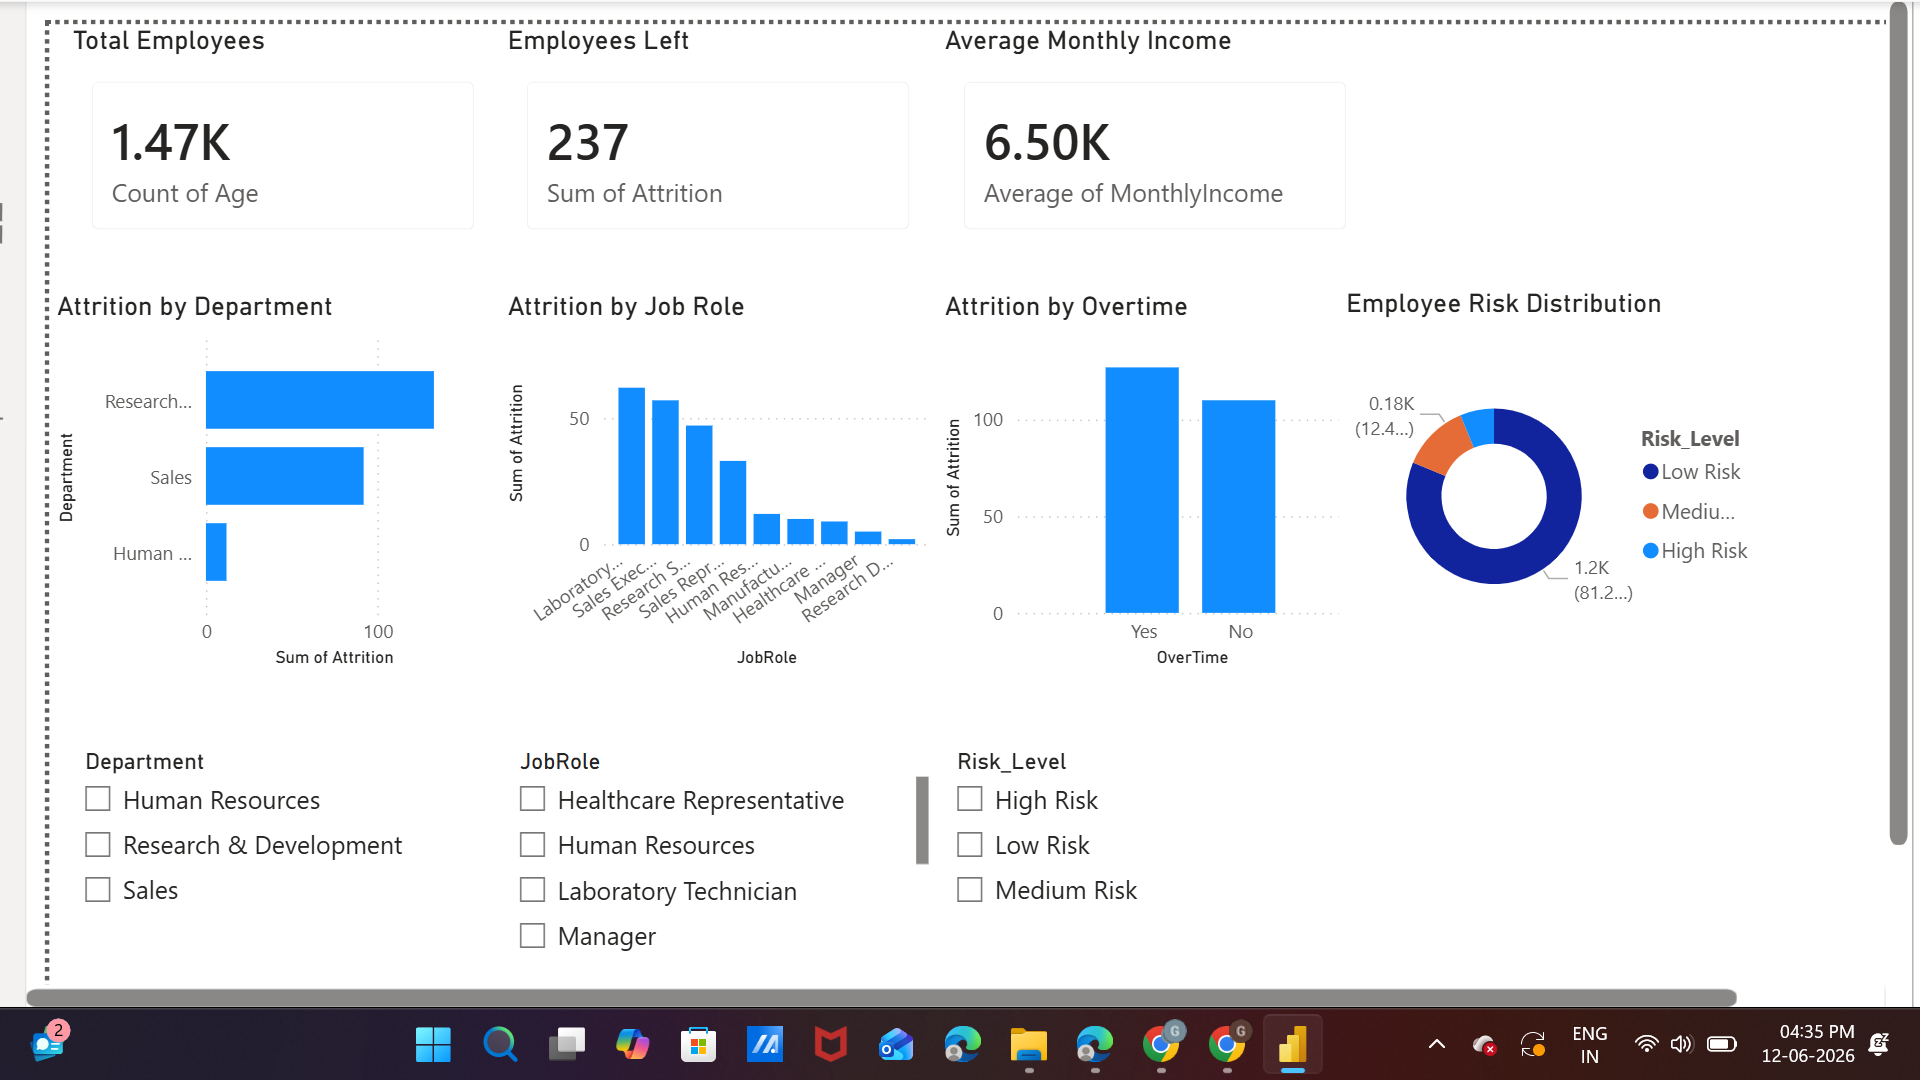

What the dashboard file says about the page in this screenshot:
{"tool":"powerbi","page":{"name":"Page 1","canvas":[1280,720],"ordinal":0},"visuals":[{"type":"cardVisual","title":"Total Employees","fields":{"Data":["CountNonNull(Employee_Attrition_Risk_Output.Age)"]},"box":[9.4,0,279.7,149.3],"z":0},{"type":"cardVisual","title":"Employees Left","fields":{"Data":["Sum(Employee_Attrition_Risk_Output.Attrition)"]},"box":[289.1,0,279.7,149.3],"z":1},{"type":"cardVisual","title":"Average Monthly Income","fields":{"Data":["Avg(Employee_Attrition_Risk_Output.MonthlyIncome)"]},"box":[568.8,0,279.7,149.3],"z":2},{"type":"clusteredBarChart","title":"Attrition by Department","fields":{"Category":["Employee_Attrition_Risk_Output.Department"],"Y":["Sum(Employee_Attrition_Risk_Output.Attrition)"]},"box":[0,170.1,279.7,245.7],"z":3},{"type":"clusteredColumnChart","title":"Attrition by Job Role","fields":{"Category":["Employee_Attrition_Risk_Output.JobRole"],"Y":["Sum(Employee_Attrition_Risk_Output.Attrition)"]},"box":[289.1,170.1,279.7,245.7],"z":4},{"type":"clusteredColumnChart","title":"Attrition by Overtime","fields":{"Category":["Employee_Attrition_Risk_Output.OverTime"],"Y":["Sum(Employee_Attrition_Risk_Output.Attrition)"]},"box":[568.8,170.1,279.7,245.7],"z":5},{"type":"donutChart","title":"Employee Risk Distribution","fields":{"Category":["Employee_Attrition_Risk_Output.Risk_Level"],"Y":["CountNonNull(Employee_Attrition_Risk_Output.Risk_Level)"]},"box":[825.8,168.2,279.7,247.6],"z":6},{"type":"slicer","fields":{"Values":["Employee_Attrition_Risk_Output.Department"]},"box":[9.4,459.2,279.7,149.3],"z":7},{"type":"slicer","fields":{"Values":["Employee_Attrition_Risk_Output.JobRole"]},"box":[289.1,459.2,279.7,149.3],"z":8},{"type":"slicer","fields":{"Values":["Employee_Attrition_Risk_Output.Risk_Level"]},"box":[568.8,459.2,279.7,149.3],"z":9}]}

Visuals, with their boxes on the page's 1280x720 design canvas (x1, y1, x2, y2). These are canvas units, not pixel positions in the 1920x1080 screenshot, which may show the page scaled, cropped or inside an application window:
"Total Employees" cardVisual: (9, 0, 289, 149)
"Employees Left" cardVisual: (289, 0, 569, 149)
"Average Monthly Income" cardVisual: (569, 0, 848, 149)
"Attrition by Department" clusteredBarChart: (0, 170, 280, 416)
"Attrition by Job Role" clusteredColumnChart: (289, 170, 569, 416)
"Attrition by Overtime" clusteredColumnChart: (569, 170, 848, 416)
"Employee Risk Distribution" donutChart: (826, 168, 1106, 416)
slicer - Employee_Attrition_Risk_Output.Department: (9, 459, 289, 608)
slicer - Employee_Attrition_Risk_Output.JobRole: (289, 459, 569, 608)
slicer - Employee_Attrition_Risk_Output.Risk_Level: (569, 459, 848, 608)
